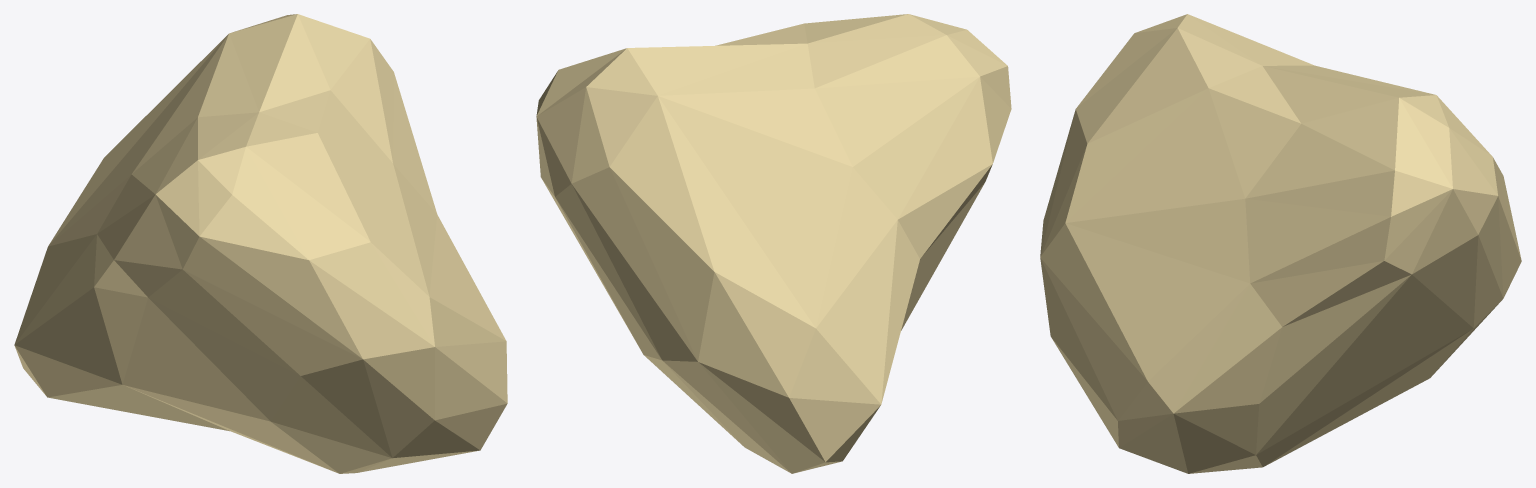
The model's file is Rock (51).fbx.
The picture shows the model from 3 angles, left to right: view 1: azimuth 30°, elevation 25°; view 2: azimuth 150°, elevation 25°; view 3: azimuth 270°, elevation 25°; orthographic projection. The views are drawn at different scales.
Parts seen in each view (by area): view 1: Asteroid50; view 2: Asteroid50; view 3: Asteroid50.
Boxes of the visible parts, x1,y1,x2,y2 form: Asteroid50: (14, 14, 507, 473); Asteroid50: (536, 14, 1011, 473); Asteroid50: (1040, 14, 1521, 473).
Bounding box in the file's own units: 85.45 × 86.57 × 99.29.
